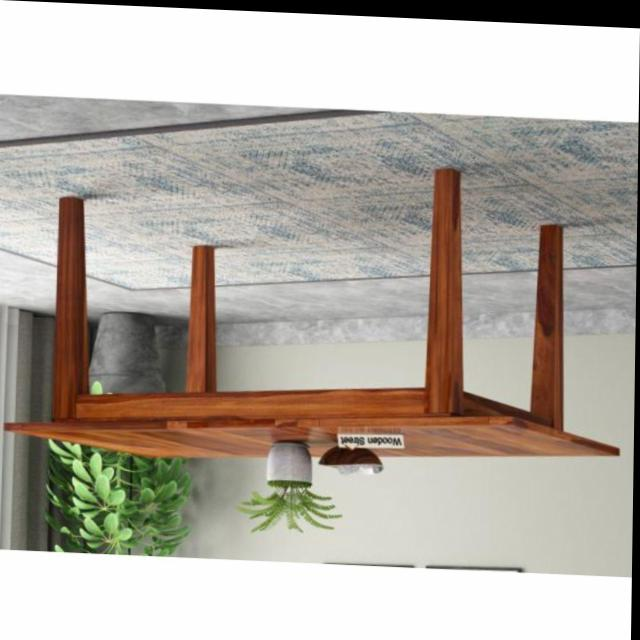Table: (0, 155, 628, 487)
